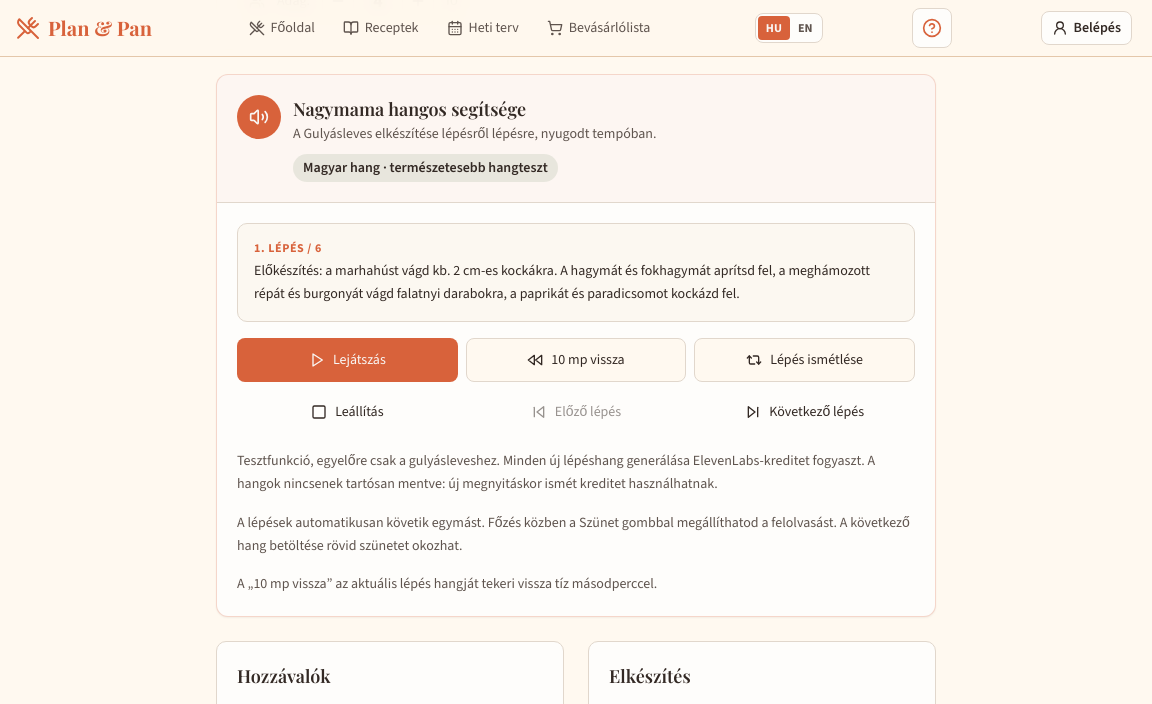
Test case: Hungarian and English custom voice guidance › only offers test guidance for soup-2: soup-2 in hu
(page scrolled)
Expected: the element with test id "recipe-narrator" shows "Előkészítés: a marhahúst vágd kb. 2 cm-es kockákra. A hagymát és fokhagymát aprítsd fel, a meghámozott répát és burgonyát vágd falatnyi darabokra, a paprikát és", [254,261,870,303]
Click the button "Lejátszás": (347, 360) [237,338,458,382]
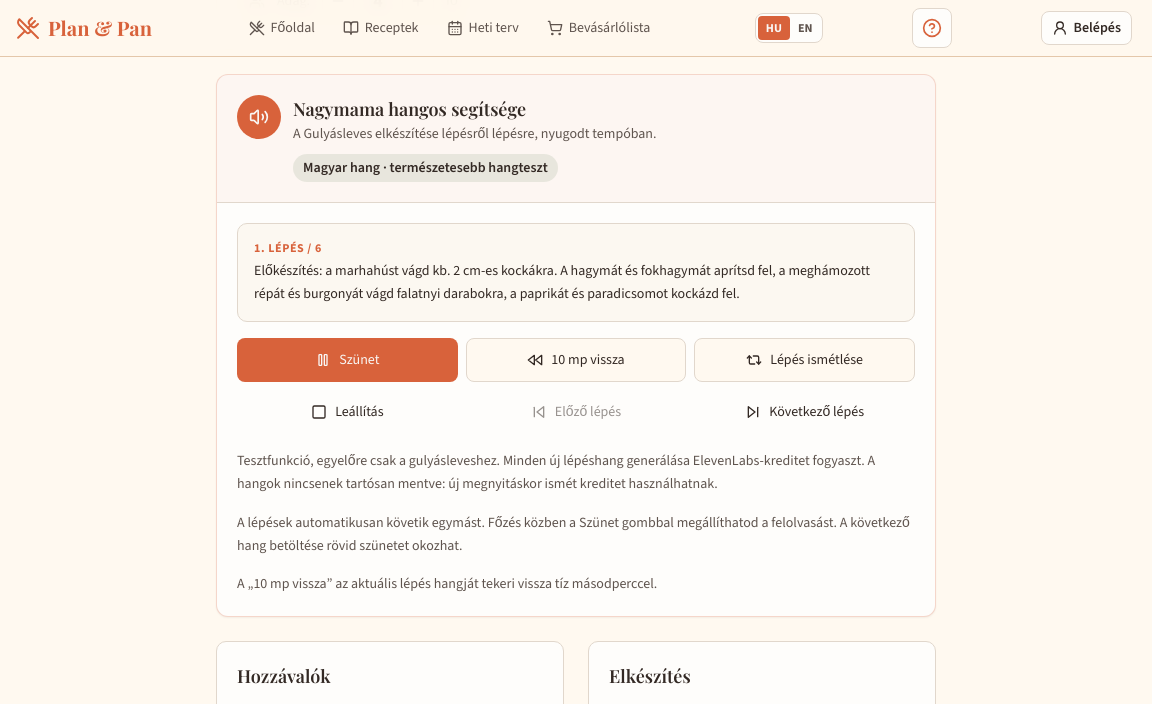
Expected: the button "Szünet" is shown, [237,338,458,382]
